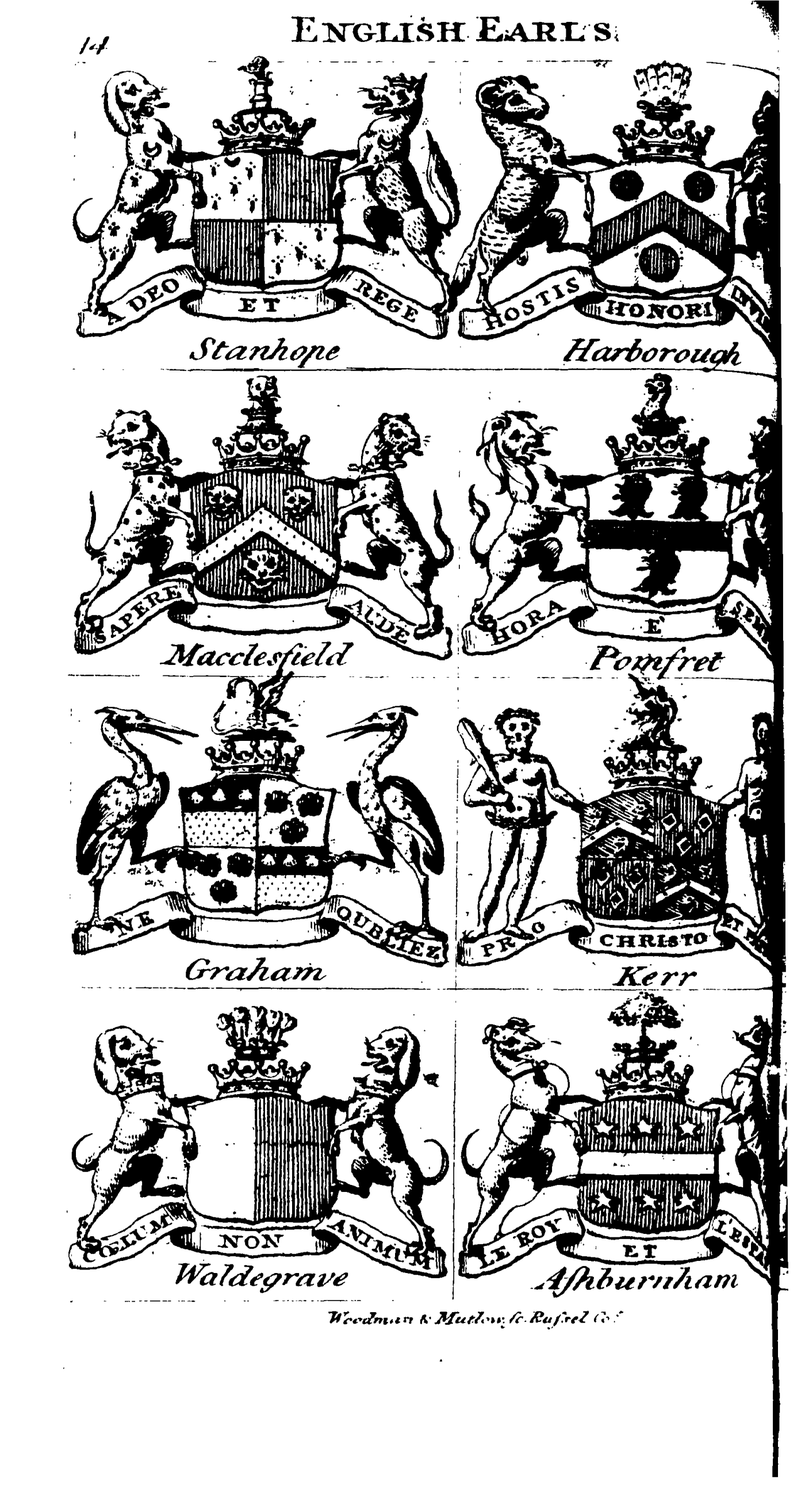coat_of_arms: (83, 990, 463, 1306), (76, 680, 450, 996), (86, 372, 459, 685), (453, 990, 802, 1304), (86, 71, 451, 365), (459, 366, 784, 685), (457, 72, 780, 381), (460, 682, 780, 993)
